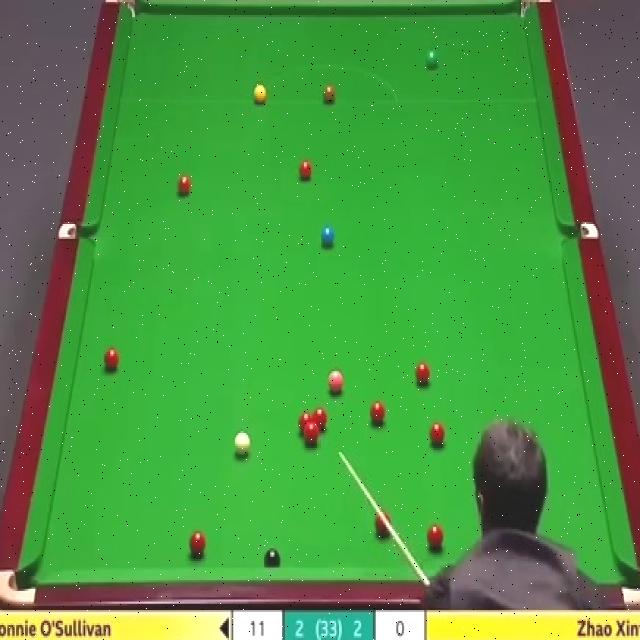black-ball: (264, 548, 281, 568)
blue-ball: (320, 224, 335, 249)
brown-ball: (321, 81, 336, 106)
green-ball: (423, 49, 439, 70)
pink-ball: (328, 366, 344, 394)
red-ball: (414, 360, 432, 390), (102, 346, 121, 374), (188, 530, 206, 557), (426, 524, 443, 552), (374, 508, 391, 536), (428, 419, 445, 446), (297, 156, 314, 182), (369, 399, 385, 426), (313, 407, 328, 434), (177, 172, 192, 198), (304, 424, 318, 446), (298, 411, 312, 433)
white-ball: (232, 428, 252, 463)
yellow-ball: (252, 82, 266, 103)
